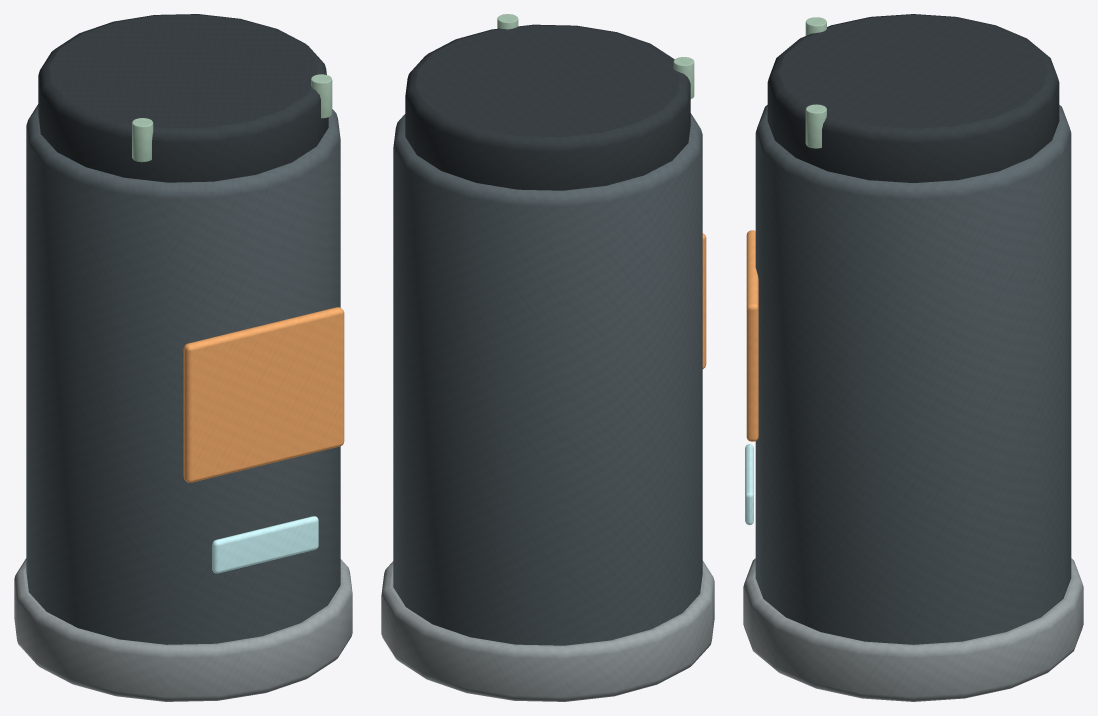
File: DecontaminationCanister.glb
The picture shows the model from 3 angles, left to right: view 1: azimuth 30°, elevation 25°; view 2: azimuth 150°, elevation 25°; view 3: azimuth 270°, elevation 25°; orthographic projection.
Visible parts, largest first — view 1: DecontaminationCanister_Mesh; view 2: DecontaminationCanister_Mesh; view 3: DecontaminationCanister_Mesh.
Boxes of the visible parts, left/top/right/bottom form: DecontaminationCanister_Mesh: left=14, top=14, right=352, bottom=701; DecontaminationCanister_Mesh: left=381, top=14, right=714, bottom=701; DecontaminationCanister_Mesh: left=743, top=14, right=1083, bottom=701.
Size of the model in its own units: 0.56 by 1.03 by 0.56.
Materials: 6 (6 with a texture image).
